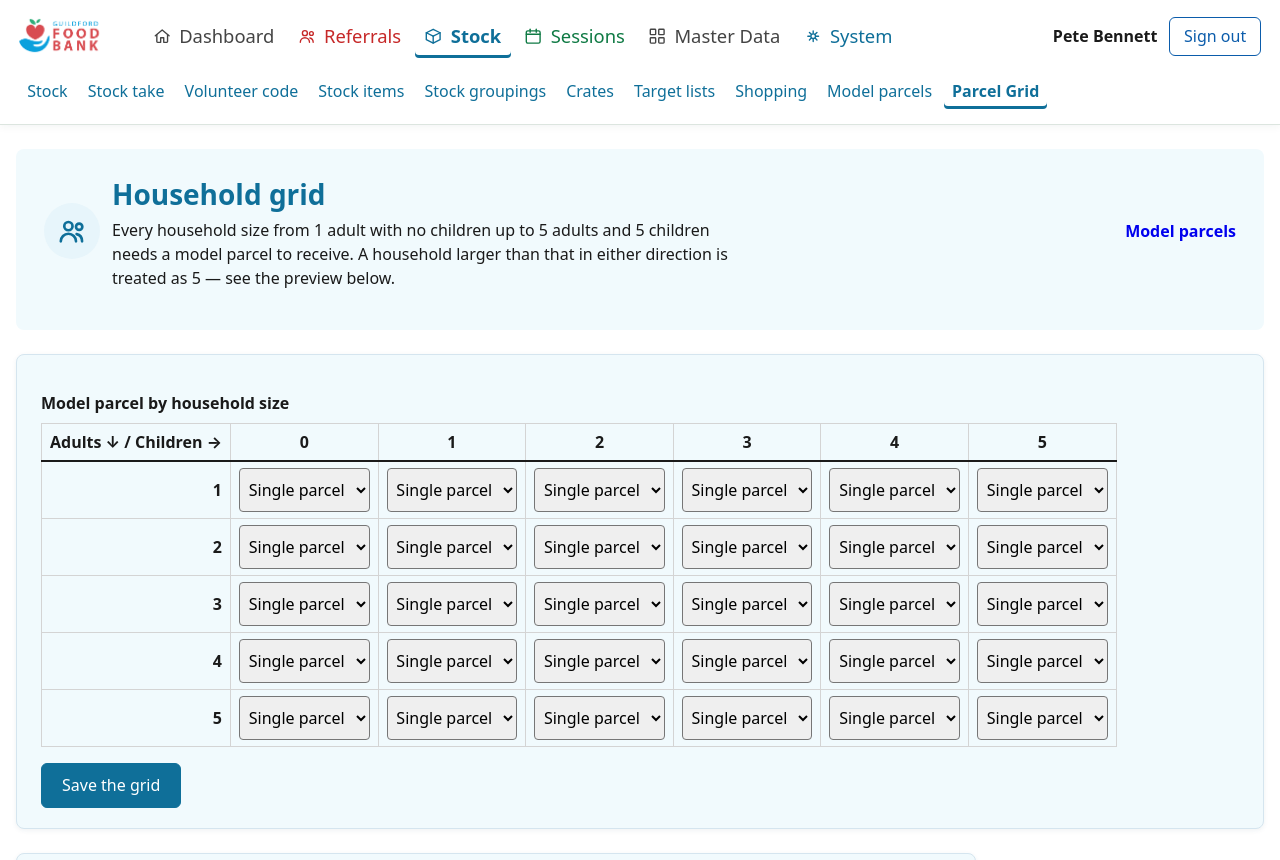
Test case: the household grid › shows the server’s 422 message verbatim when a save is refused
The width and height of the screenshot is (1280, 860).
expect the dropdown named "Model parcel for 1 adult, 0 children" is shown: met, box [239,468,370,512]
Click the button "Save the grid": (111, 785) [41,763,181,808]
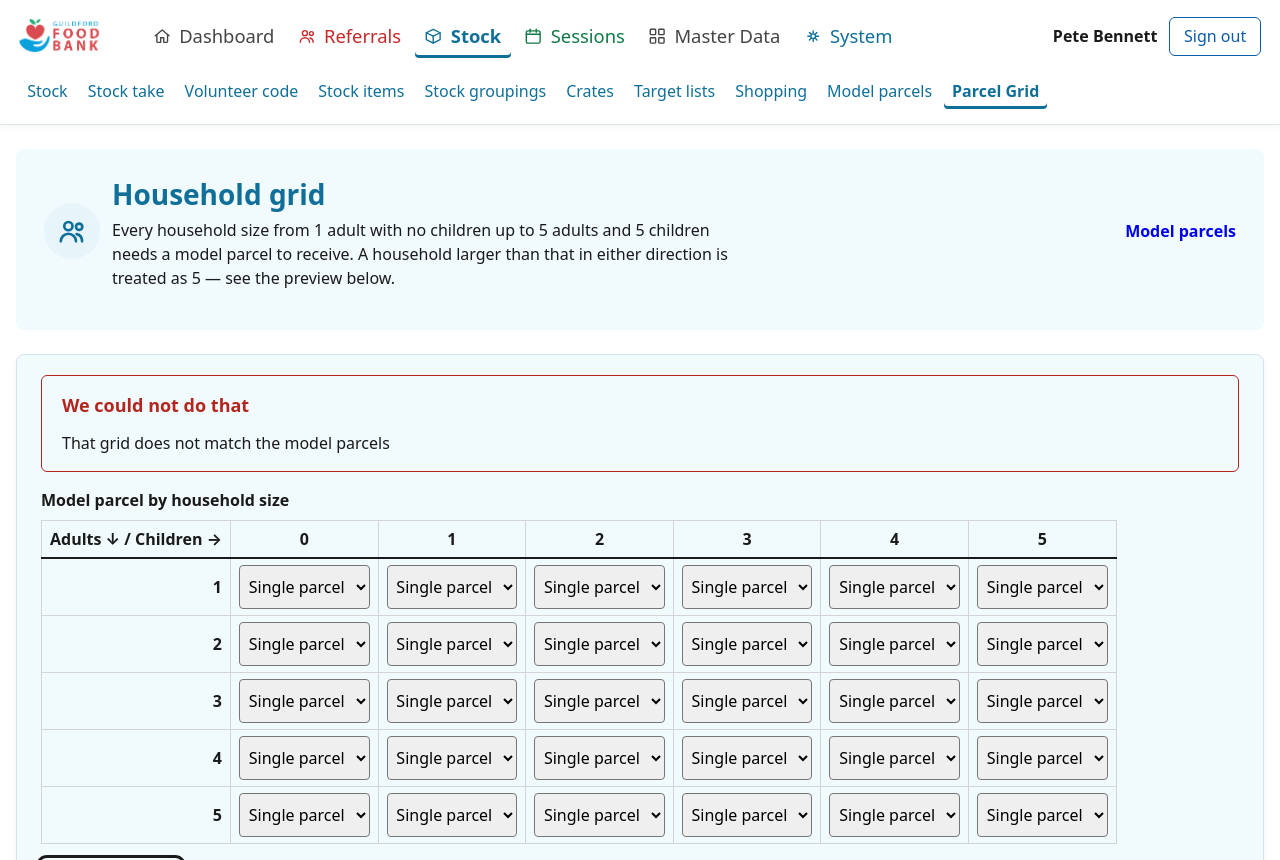
expect the message shows "That grid does not match the model parcels": met, box [62,432,390,454]
